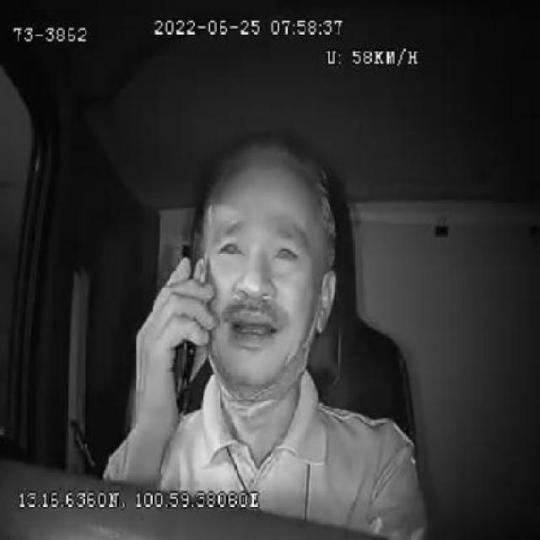phone: (171, 238, 199, 418)
